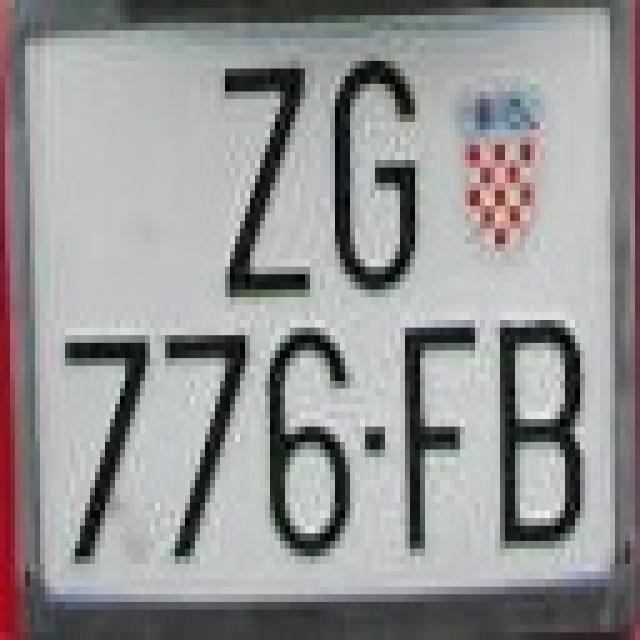6: (265, 320, 355, 571)
7: (50, 320, 150, 571), (160, 320, 240, 571)
B: (490, 305, 585, 571)
F: (395, 305, 480, 564)
G: (330, 53, 430, 305)
